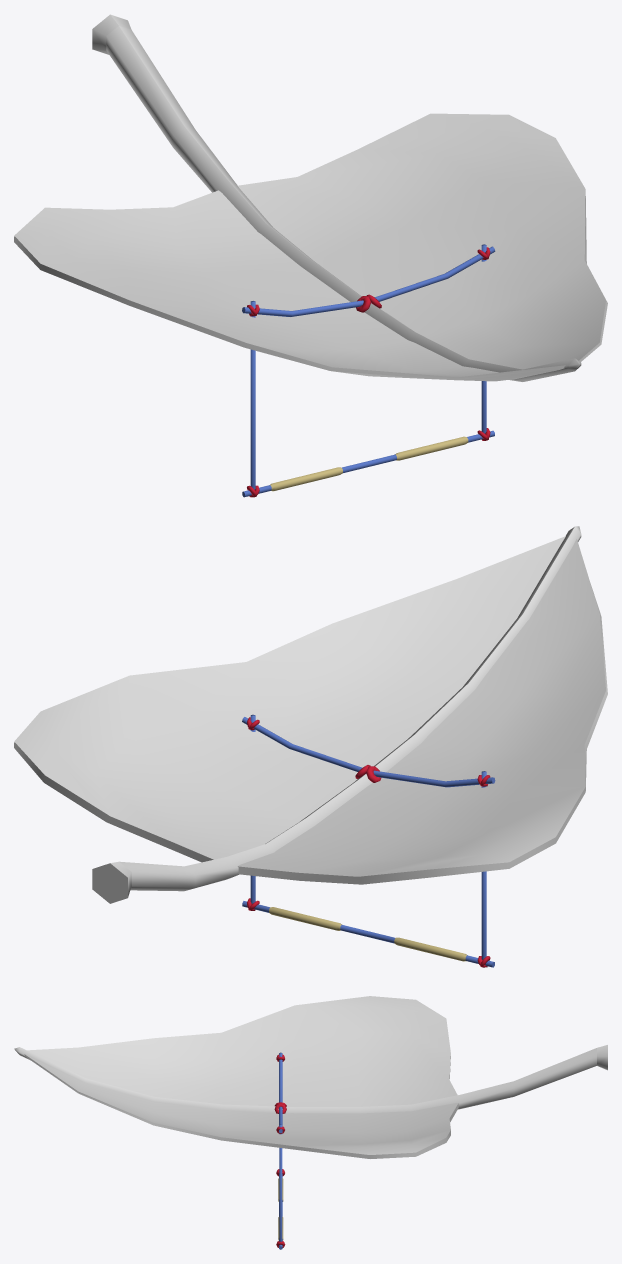
Rendered from LeafGlider.fbx.
3 renders of one model, top to bottom at view 1: azimuth 30°, elevation 25°; view 2: azimuth 150°, elevation 25°; view 3: azimuth 270°, elevation 25°, orthographic. The views are drawn at different scales.
Parts seen in each view (by area): view 1: leaf, stem, Dowthestem; view 2: leaf, stem, Dowthestem; view 3: leaf, stem, Dowthestem.
Part boxes in pixels (x1,y1,x2,y2): leaf: (14, 113, 607, 381); stem: (92, 14, 581, 381); Dowthestem: (242, 244, 495, 497); leaf: (14, 536, 607, 884); stem: (92, 526, 581, 903); Dowthestem: (242, 714, 495, 967); leaf: (24, 996, 458, 1158); stem: (14, 1045, 607, 1113); Dowthestem: (274, 1052, 286, 1249).
Size of the model in its own units: 4.82 by 7.6 by 2.37.
